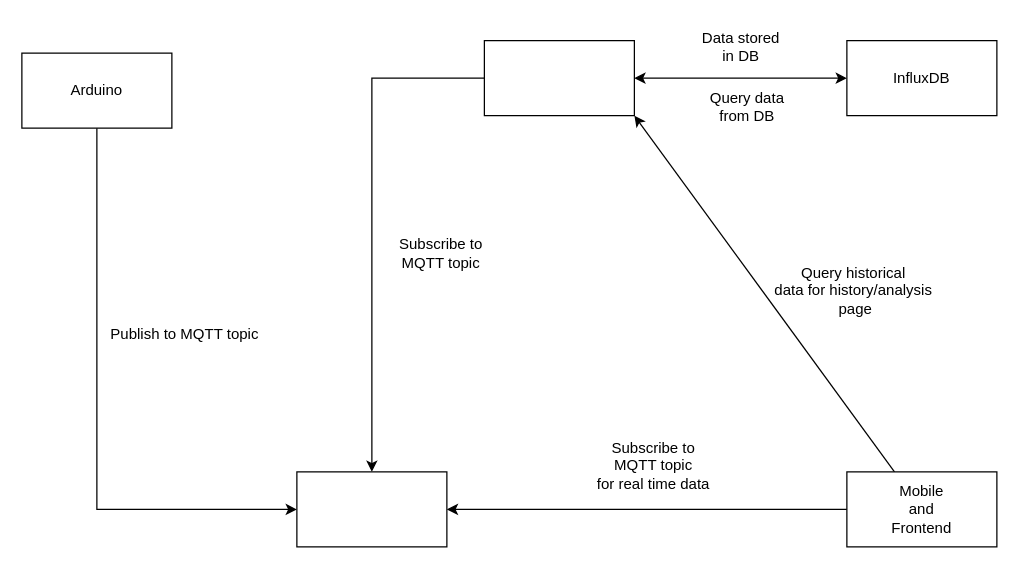
This 1019x569 diagram has some shape labels left out. Here are the shapes that lost their labels. From the top down, the centre of each, then its label:
point 558,77: Spring boot app
point 371,509: MQTT broker
